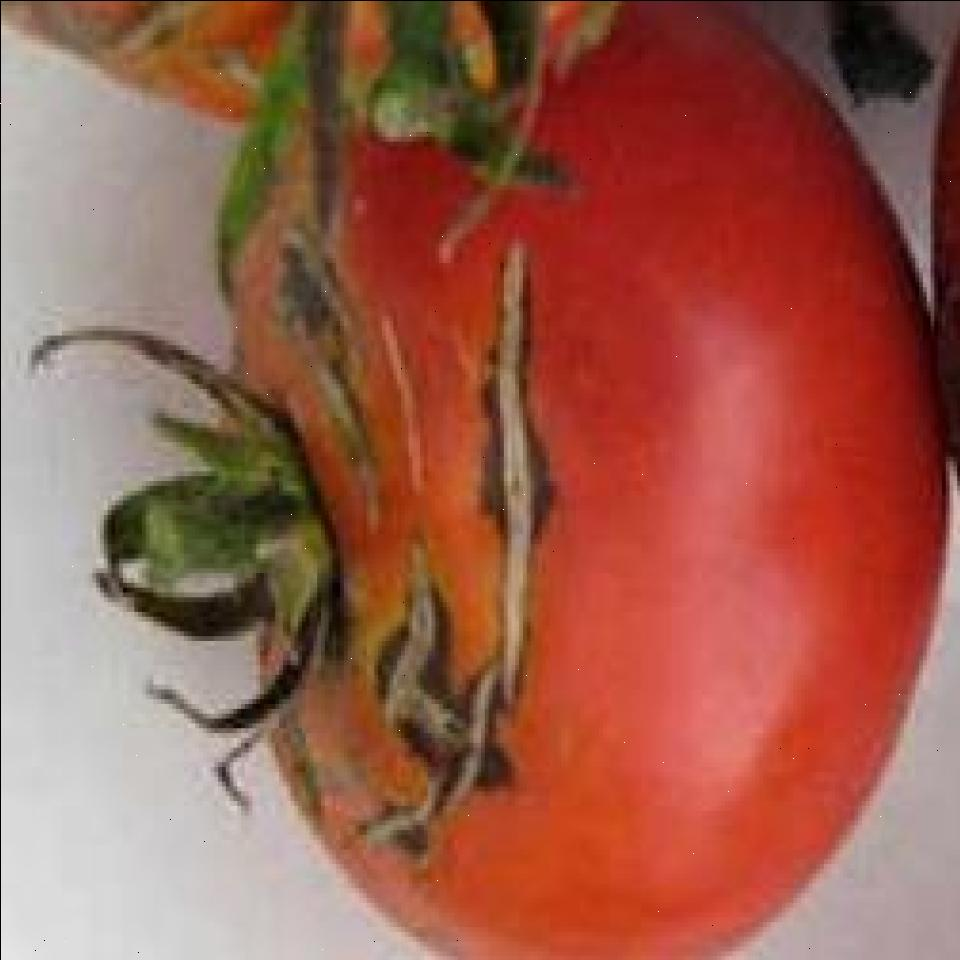Cracking: (328, 208, 592, 874), (250, 237, 423, 643), (261, 715, 322, 855)
